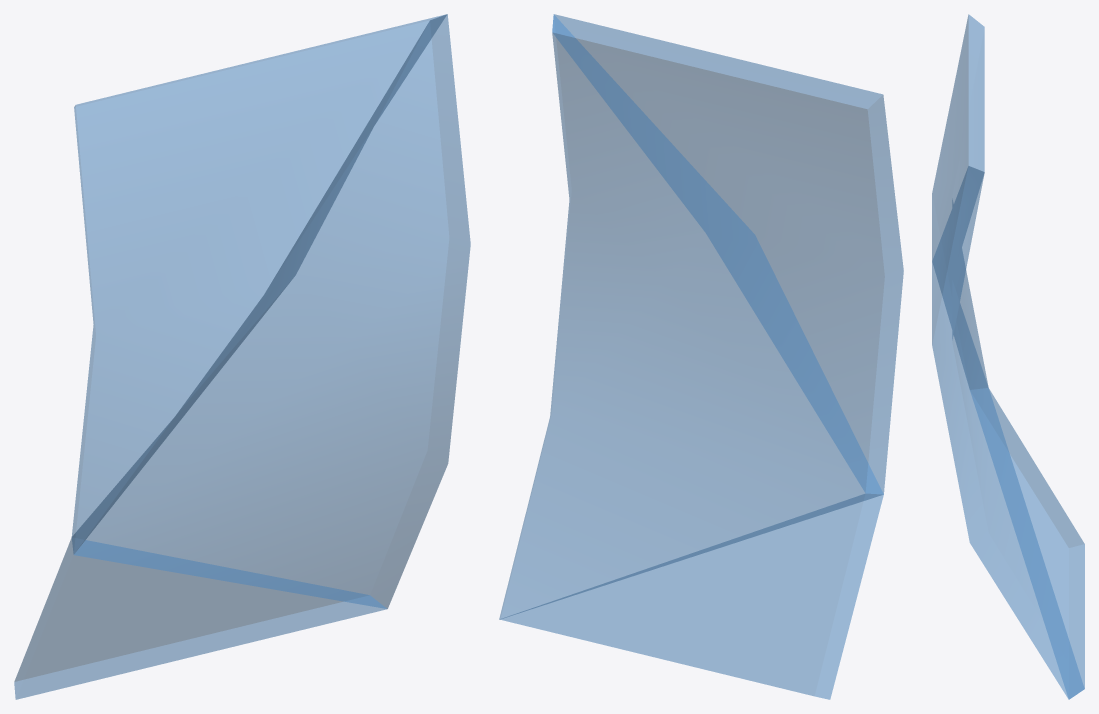
The model's file is Glass_Broken_02.fbx.
The picture shows the model from 3 angles, left to right: view 1: azimuth 30°, elevation 25°; view 2: azimuth 150°, elevation 25°; view 3: azimuth 270°, elevation 25°; orthographic projection. The views are drawn at different scales.
Visible parts, largest first — view 1: Cube.004, Cube.003, Cube.005; view 2: Cube.004, Cube.003, Cube.005; view 3: Cube.004, Cube.005, Cube.003.
Boxes of the visible parts, x1,y1,x2,y2 form: Cube.004: [72, 14, 470, 608]; Cube.003: [71, 14, 447, 554]; Cube.005: [14, 538, 386, 699]; Cube.004: [499, 15, 883, 619]; Cube.003: [552, 14, 903, 494]; Cube.005: [499, 493, 883, 699]; Cube.004: [932, 166, 1084, 699]; Cube.005: [970, 388, 1084, 699]; Cube.003: [932, 14, 988, 389].
Size of the model in its own units: 2.93 by 4.78 by 1.24.
